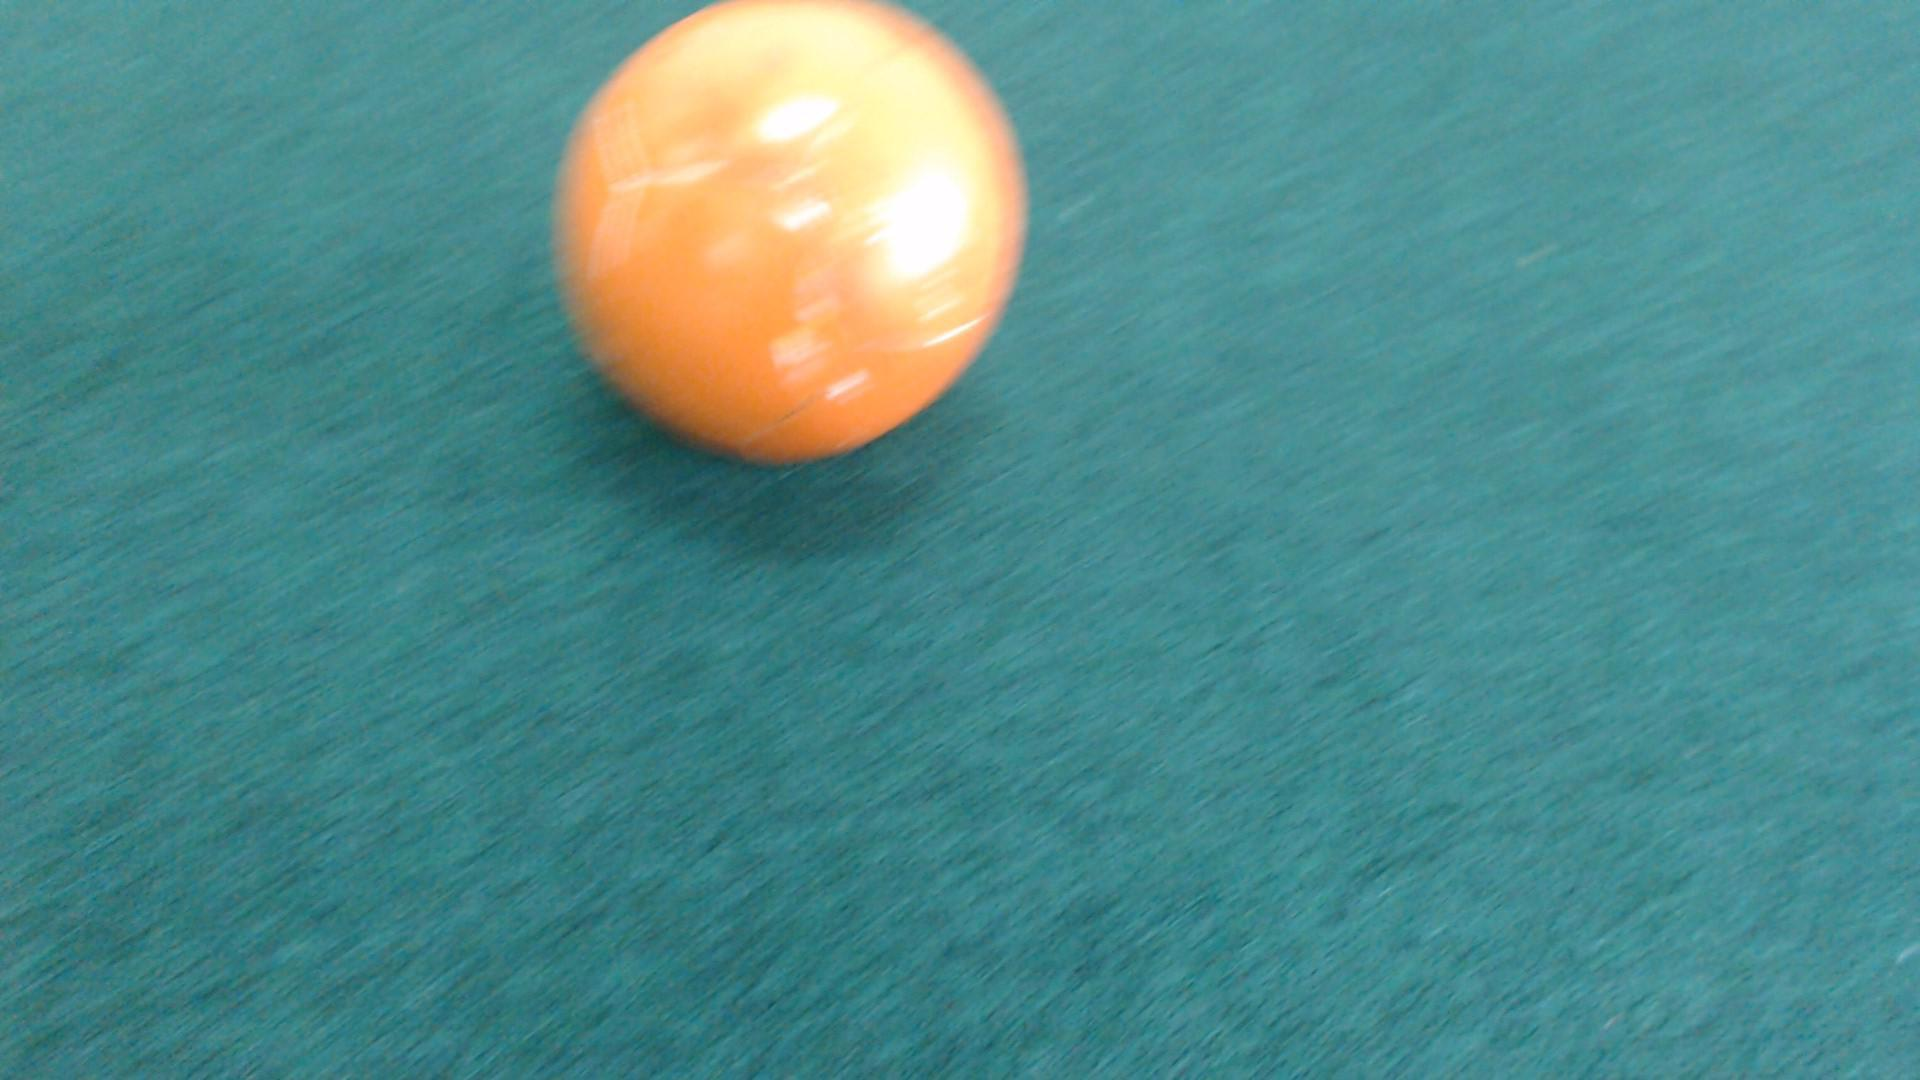bola: (495, 3, 1060, 510)
